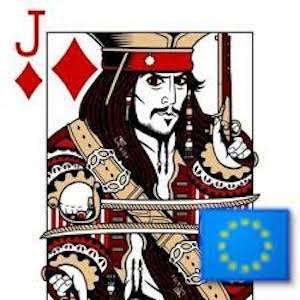JackOfDiamonds: (5, 3, 279, 300)
